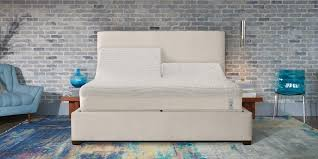bed-matress: (79, 62, 243, 112)
